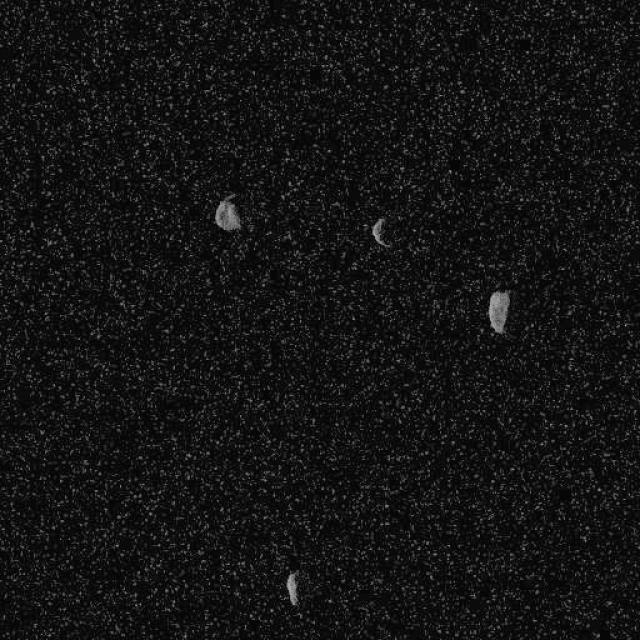D2: (486, 290, 510, 334), (214, 199, 241, 231), (370, 216, 391, 248), (285, 572, 299, 606)
